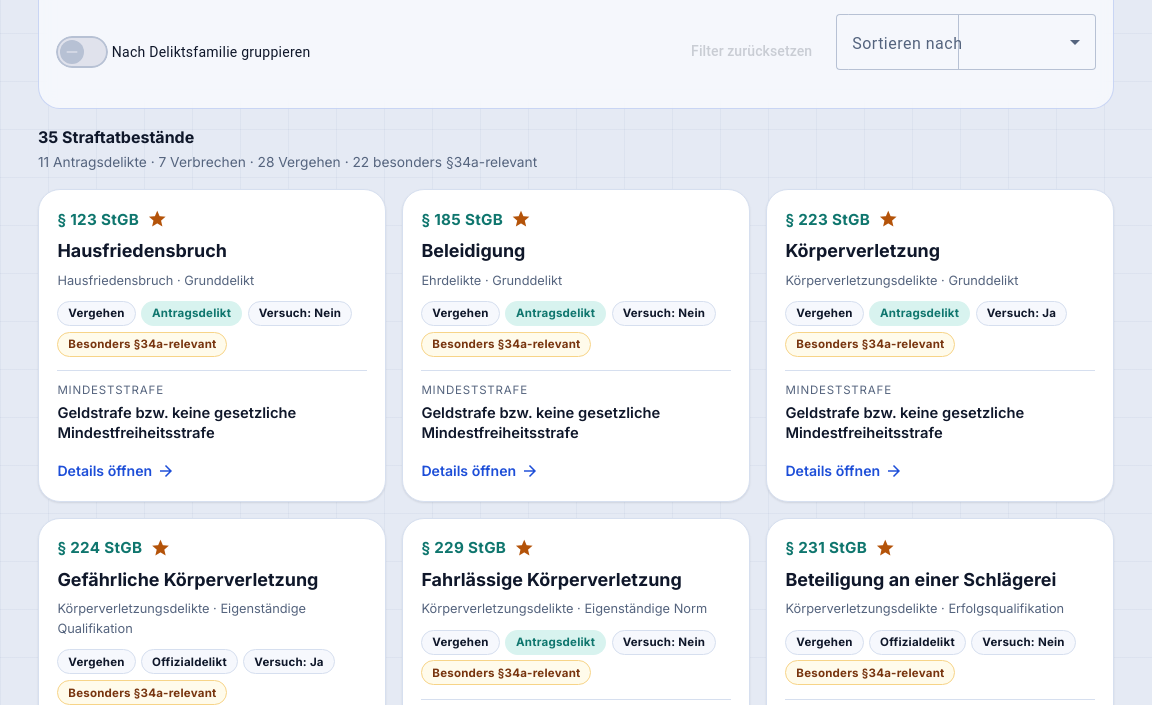
StrafgesetzbuchComponent › öffnet die Detailansicht als Modal mit den vollständigen Angaben
The image size is (1152, 705).
(page scrolled)
Click the button with class "offense-card" that starts with "§ 223 StGB".
click(940, 346)  # box [766,189,1114,502]
(page scrolled)
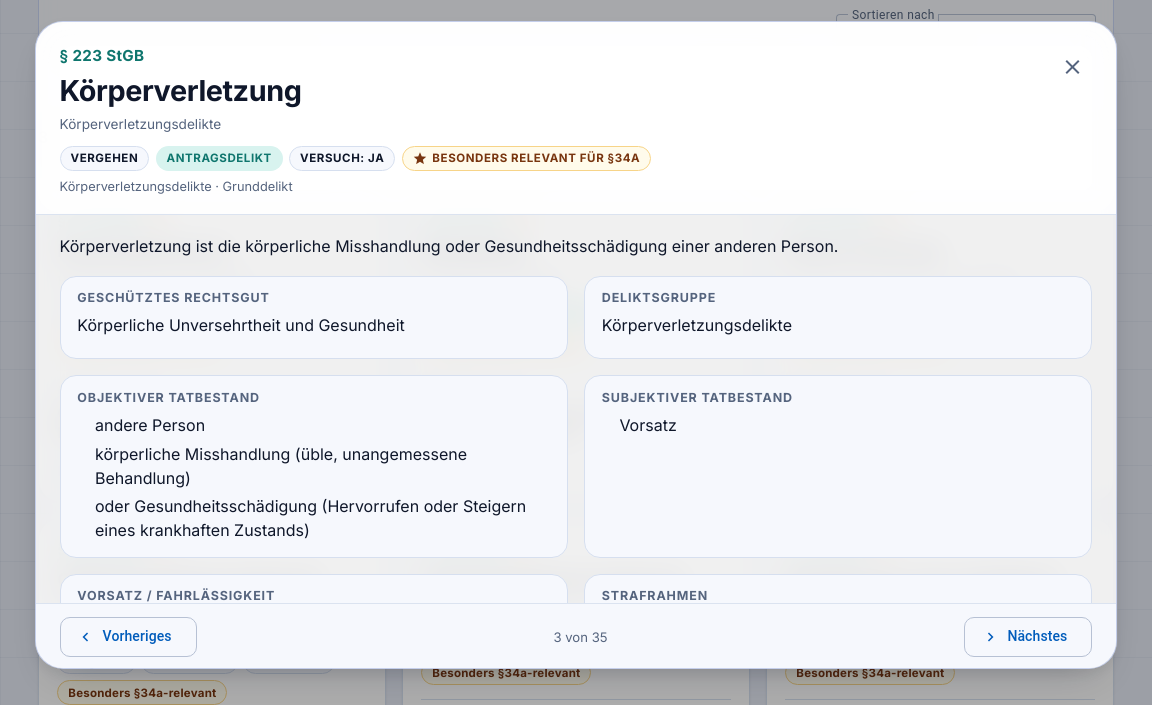
Expected: the element that starts with "§ 223 StGB" is shown
Expected: the element that starts with "§ 223 StGB" shows "Körperverletzung", [60,72,302,108]
Expected: the element that starts with "§ 223 StGB" shows "Objektiver Tatbestand", [77,390,260,405]
